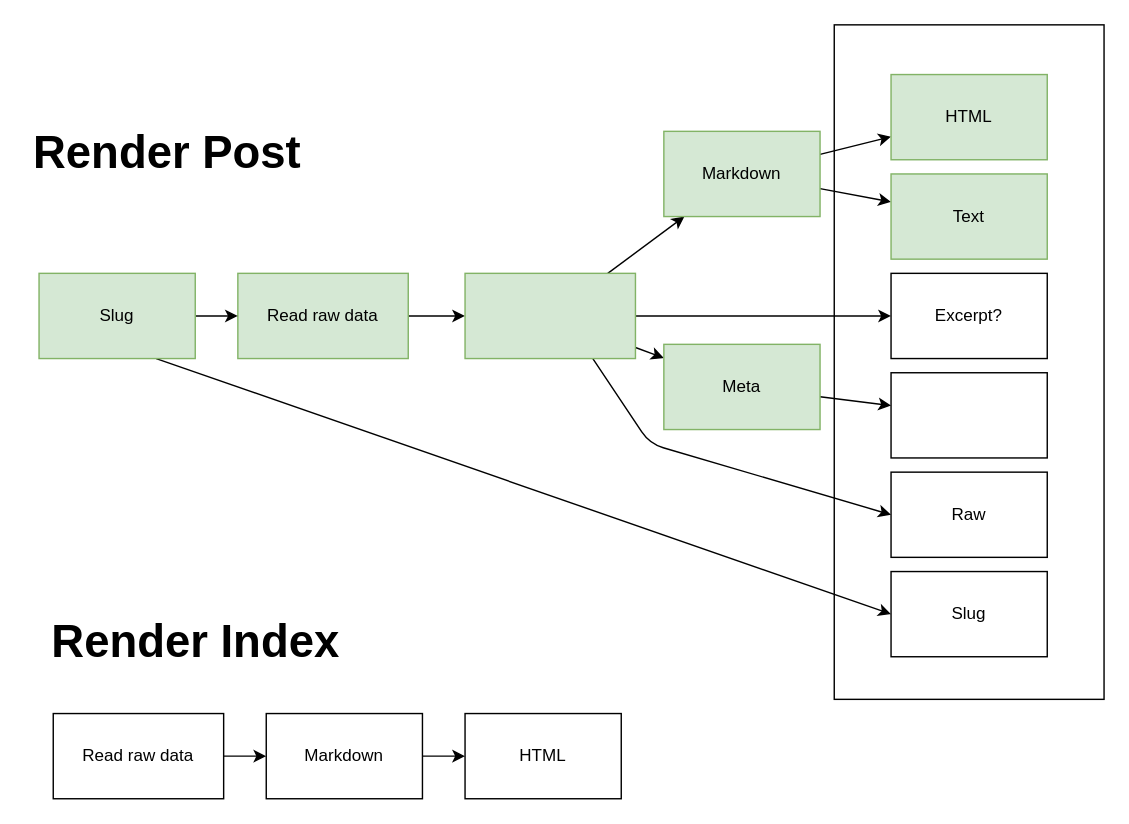
Image size: 1129x824. Some labels were removed from this diagram. The centre of each missing label's shape, as x and y in pixels:
Checked Meta: the point at 968,414
Extract front matter: the point at 549,315
